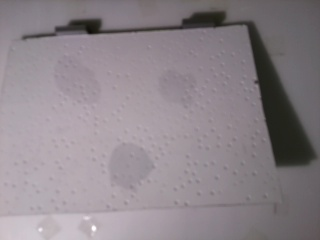Water_detected: (119, 154, 148, 189), (164, 71, 194, 101), (71, 71, 95, 101)
